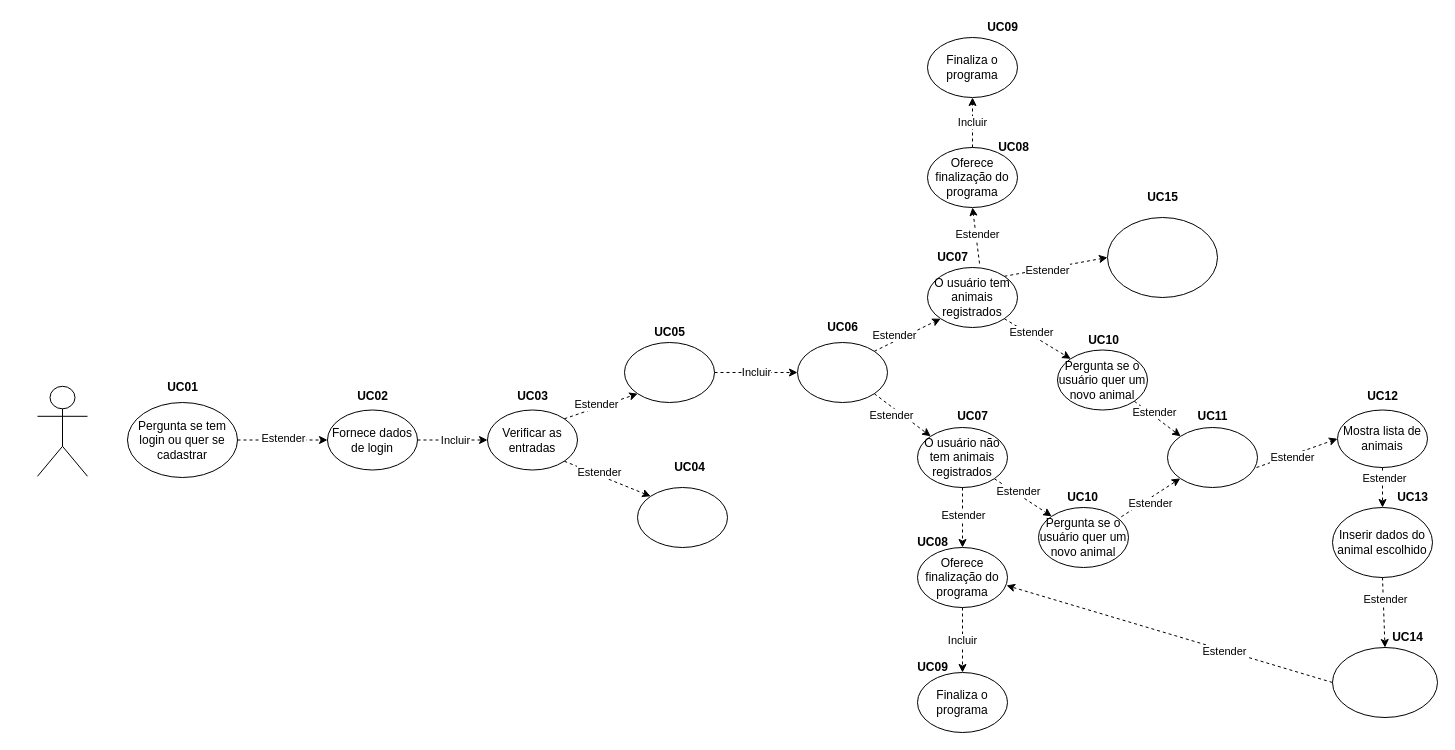
Image size: 1455x750. Some labels were removed from this diagram. The shapes that lost their labels are listed below. From the top down, each one's centre as x and y in pixels, then its label:
(1162,257): Oferece para o usuário a opção de ver um de seus animais
(669,372): Aceita as entradas
(842,372): Olha os animais do usuário
(62,430): Usuário em casa
(1212,457): O usuário quer um animal
(682,517): Rejeita as entradas
(1385,682): Começar a cuidar do animal
